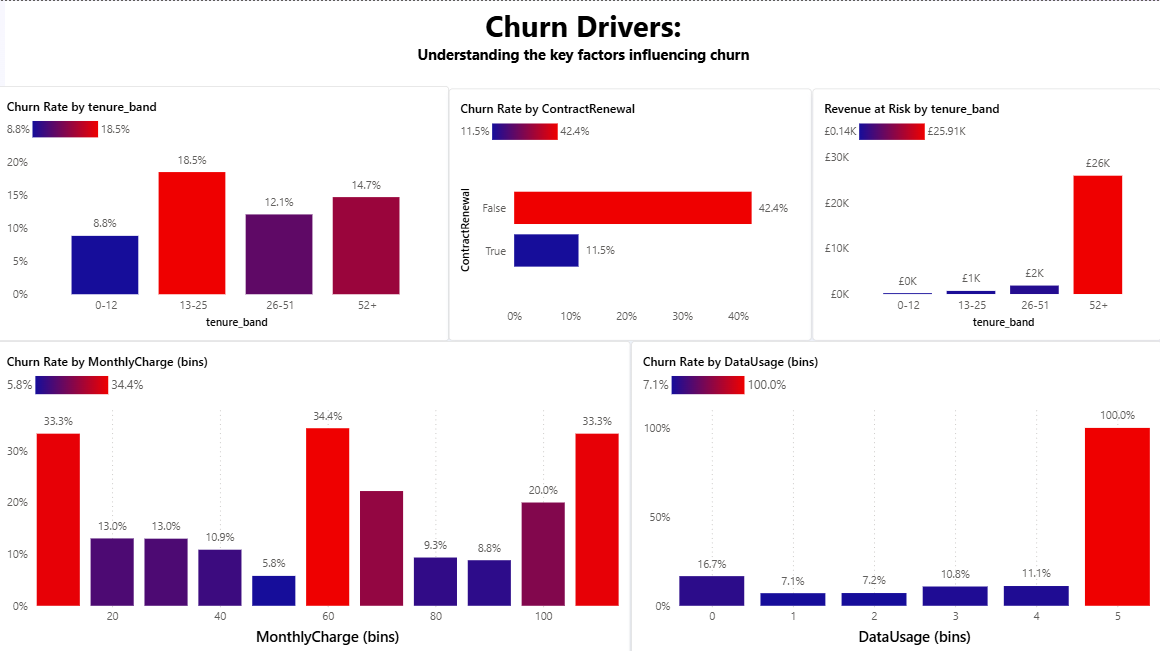

The page's visual inventory and layout, read from the dashboard file:
{"tool":"powerbi","page":{"name":"Churn Drivers","canvas":[1280,720],"ordinal":1},"visuals":[{"type":"textbox","box":[10.5,0,1269.8,106.3],"z":0},{"type":"clusteredColumnChart","fields":{"Y":["churn_cleaned.Churn Rate"],"Category":["churn_cleaned.tenure_band"]},"box":[0,92.8,498.6,280],"z":1000},{"type":"clusteredBarChart","fields":{"Y":["churn_cleaned.Churn Rate"],"Category":["churn_cleaned.ContractRenewal"]},"box":[498.6,95.8,398.3,277],"z":2000},{"type":"clusteredColumnChart","fields":{"Y":["churn_cleaned.Revenue at Risk"],"Category":["churn_cleaned.tenure_band"]},"box":[897,95.8,383.3,277],"z":3000},{"type":"clusteredColumnChart","fields":{"Category":["churn_cleaned.MonthlyCharge (bins)"],"Y":["churn_cleaned.Churn Rate"]},"box":[0,372.9,697.8,347.4],"z":4000},{"type":"clusteredColumnChart","fields":{"Category":["churn_cleaned.DataUsage (bins)"],"Y":["churn_cleaned.Churn Rate"]},"box":[697.8,372.9,582.5,347.4],"z":5000}]}

Visuals, with their boxes in screenshot pixels (x1, y1, x2, y2), scaled from the page's 1280x720 canvas onto the 1160x651 screenshot:
textbox: 10:0:1159:96
clusteredColumnChart - churn_cleaned.Churn Rate x churn_cleaned.tenure_band: 0:84:452:337
clusteredBarChart - churn_cleaned.Churn Rate x churn_cleaned.ContractRenewal: 452:87:813:337
clusteredColumnChart - churn_cleaned.Revenue at Risk x churn_cleaned.tenure_band: 813:87:1159:337
clusteredColumnChart - churn_cleaned.MonthlyCharge (bins) x churn_cleaned.Churn Rate: 0:337:632:650
clusteredColumnChart - churn_cleaned.DataUsage (bins) x churn_cleaned.Churn Rate: 632:337:1159:650
